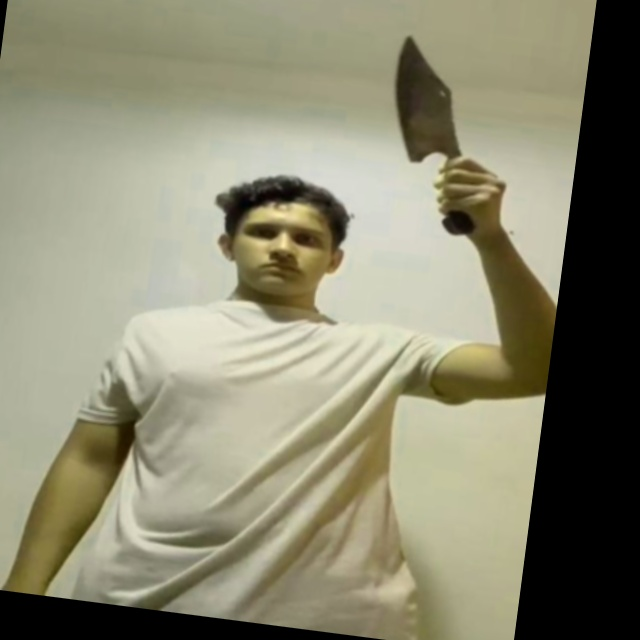Sharp-Object: (383, 31, 476, 170)
